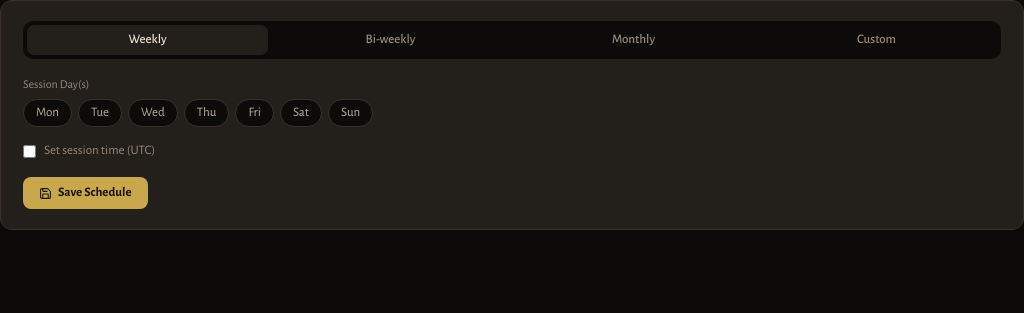
ScheduleEditor › shows monthly week selector in monthly mode
The image size is (1024, 313).
Click the button "Monthly".
click(634, 40)  # box [513,25,754,55]
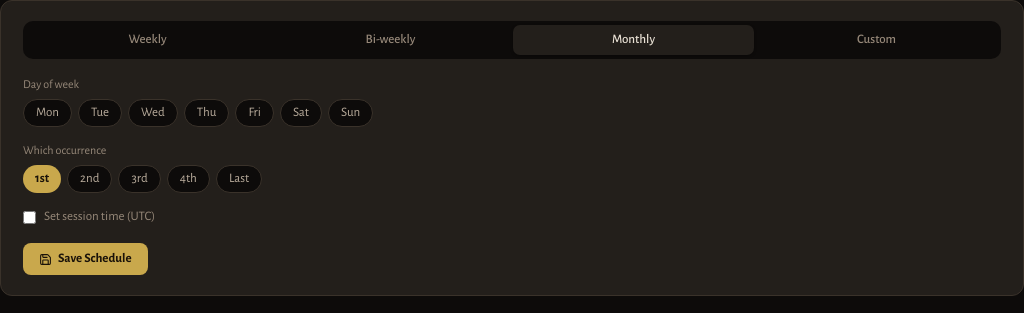
Expected: the text "Which occurrence" is shown, [23,144,106,156]
Expected: the button "1st" is shown, [23,165,61,193]
Expected: the button "Last" is shown, [216,165,262,193]
